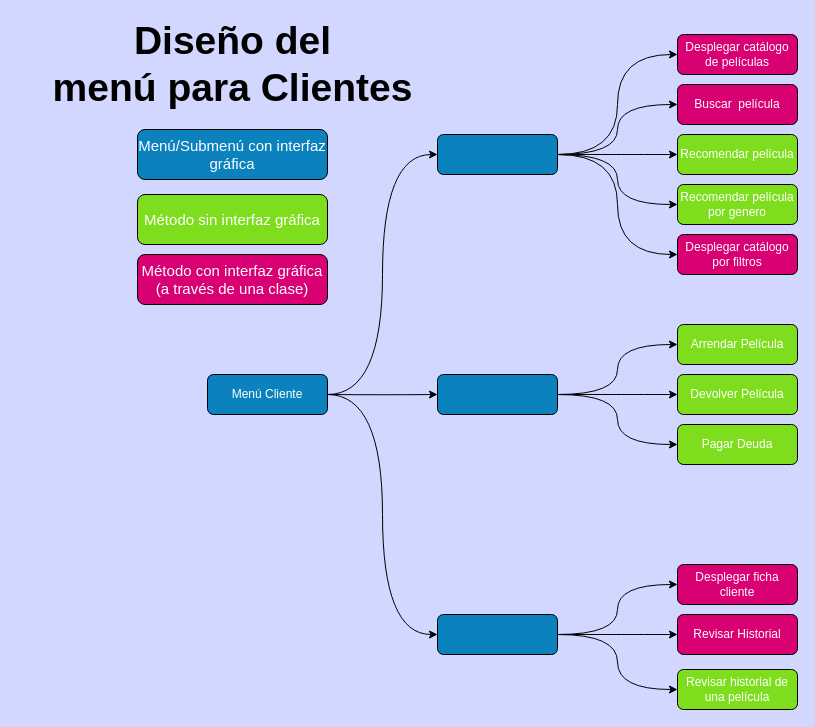
Image size: 815x727. Some labels were removed from this diagram. Here are the shapes that lost their labels. From the top down, the centre of each, then its label:
At point (497, 154): "Película".
At point (497, 394): "Servicios para Cliente".
At point (497, 634): "Información usuario".
